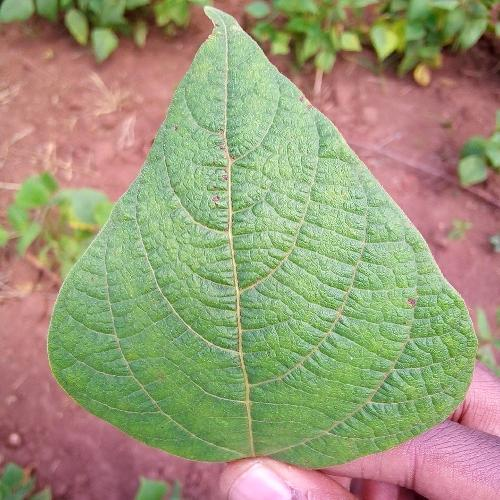hawar: (205, 115, 244, 220), (391, 292, 422, 316)
mozaik: (102, 241, 370, 440)
